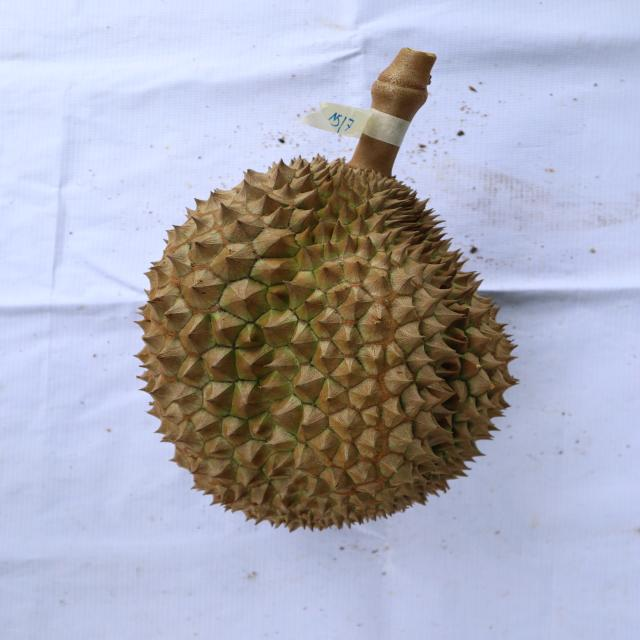mature: (122, 152, 524, 534)
